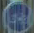bike lane: (0, 2, 33, 31)
